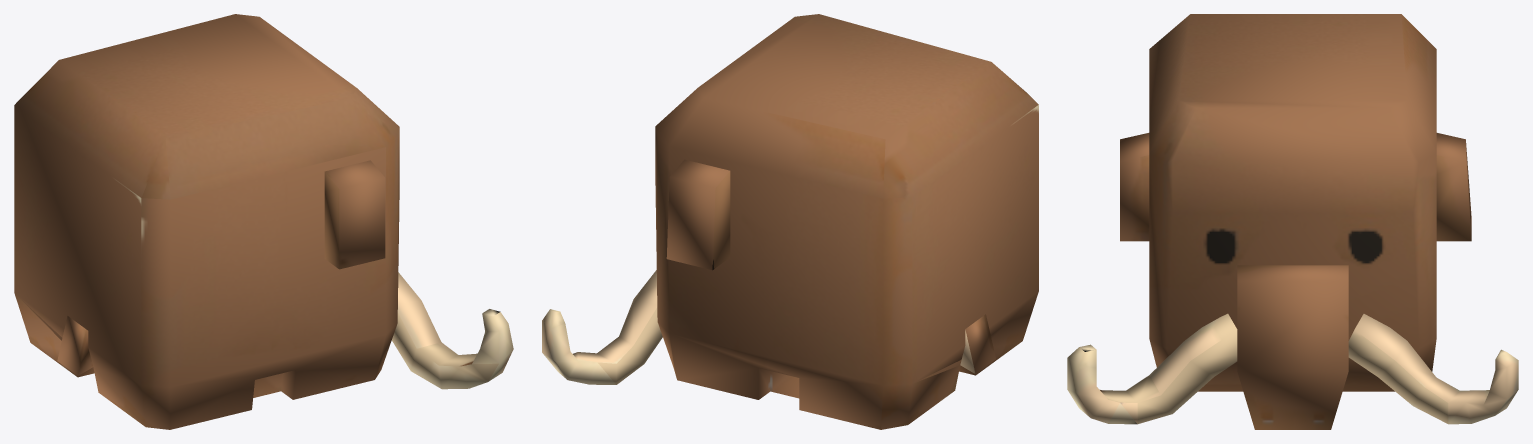
3 renders of one model, left to right at view 1: azimuth 30°, elevation 25°; view 2: azimuth 150°, elevation 25°; view 3: azimuth 270°, elevation 25°, orthographic.
Visible parts, largest first — view 1: 1, 2, 5; view 2: 1, 6.009, 3; view 3: 1, 4, 2, 3, 6.009, 5.
Boxes of the visible parts, x1=… form: 1: x1=14, y1=14, x2=399, y2=429; 2: x1=392, y1=272, x2=513, y2=389; 5: x1=324, y1=160, x2=385, y2=269; 1: x1=655, y1=14, x2=1038, y2=429; 6.009: x1=666, y1=159, x2=730, y2=270; 3: x1=542, y1=270, x2=662, y2=384; 1: x1=1149, y1=14, x2=1436, y2=391; 4: x1=1237, y1=265, x2=1348, y2=429; 2: x1=1067, y1=313, x2=1237, y2=424; 3: x1=1348, y1=314, x2=1518, y2=424; 6.009: x1=1436, y1=133, x2=1471, y2=241; 5: x1=1120, y1=133, x2=1149, y2=241.
Bounding box in the file's own units: 0.1292 × 0.1076 × 0.1507.
1 material, 1 textured.
